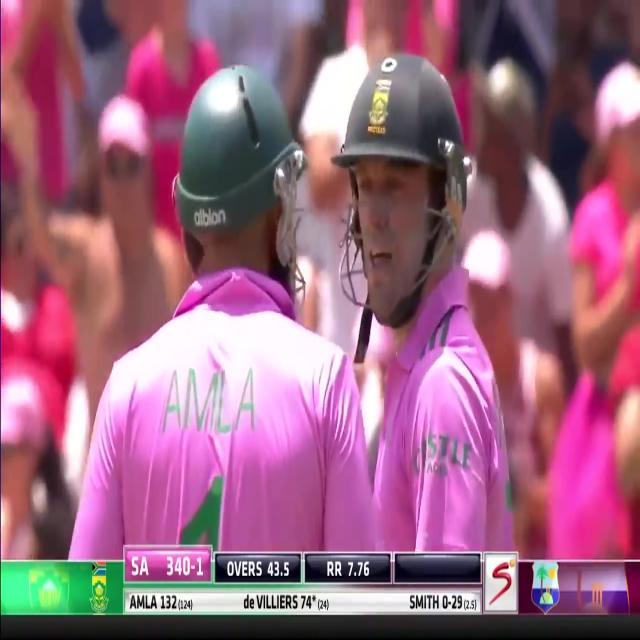Ball: (82, 63, 383, 557), (337, 51, 532, 562)
